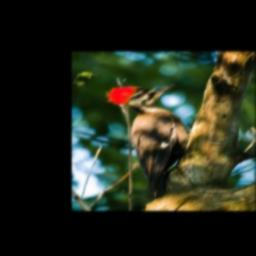Woodpecker: (106, 83, 199, 199)
